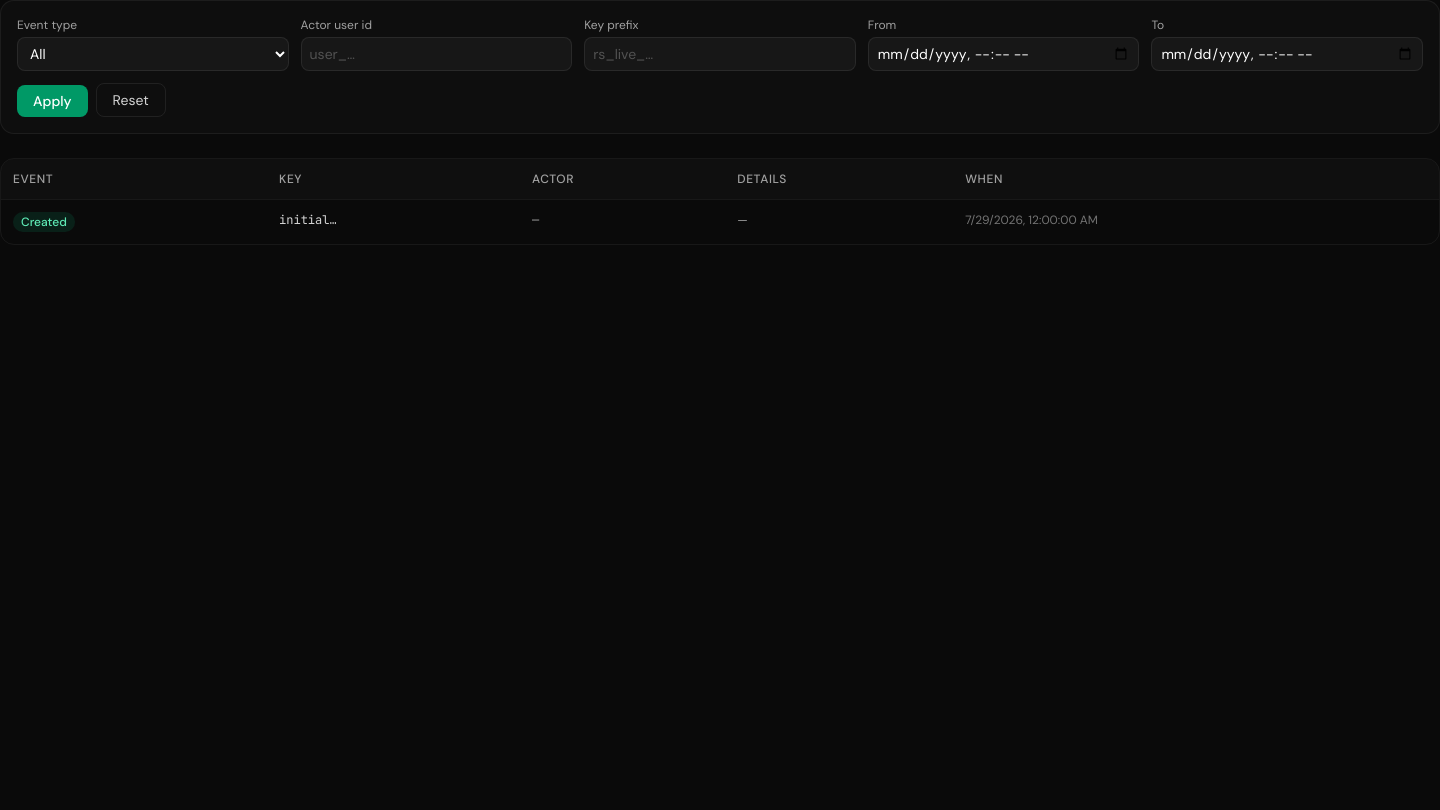
Scenario: AuditFeed › ignores a filtered response that arrives after a reset response
Check: the text "initial…" is shown, box [267, 199, 520, 244]
Type "filtered" into the field labelled "Key prefix" at (720, 54), box [584, 37, 856, 71]
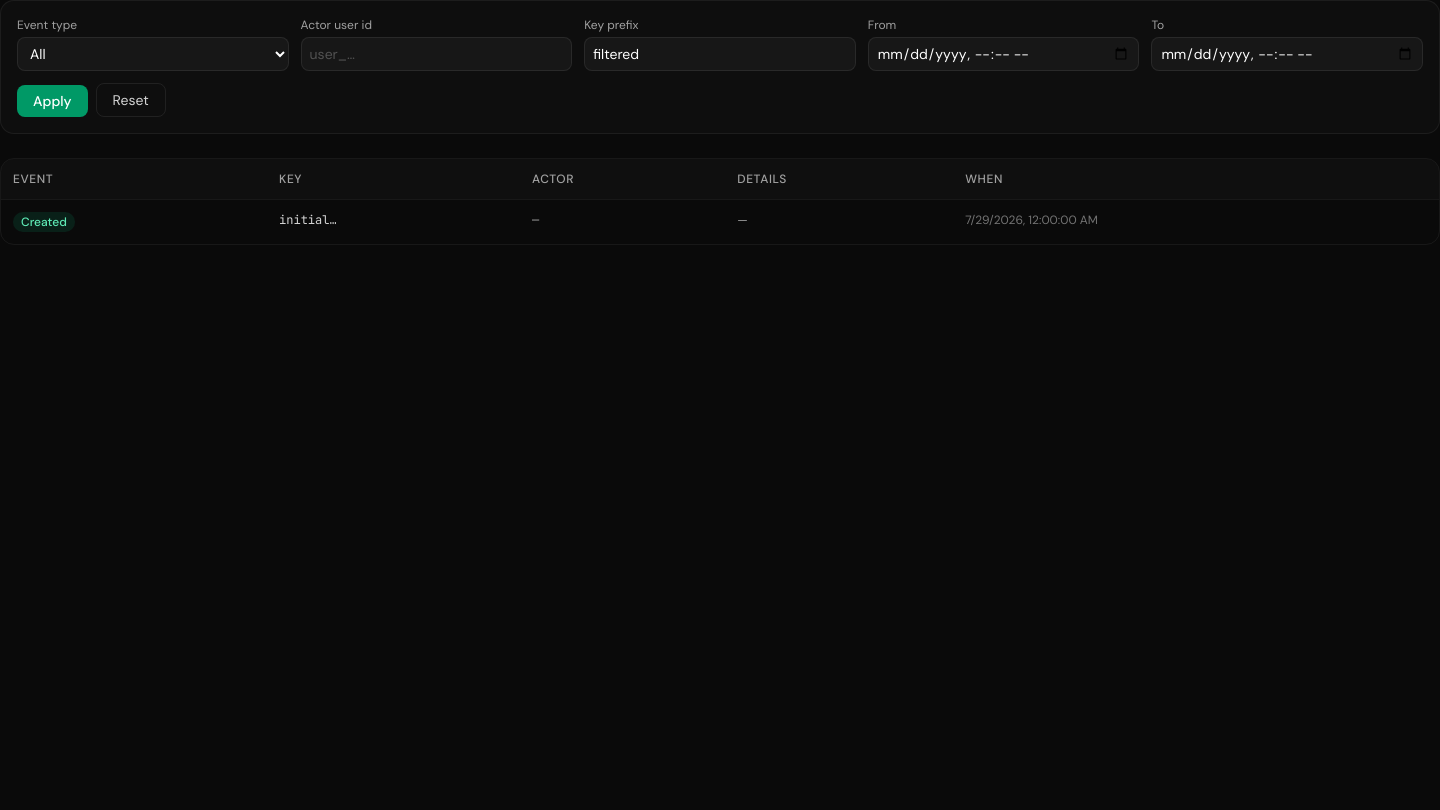
Click the button "Apply" at (52, 101), box [17, 85, 88, 117]
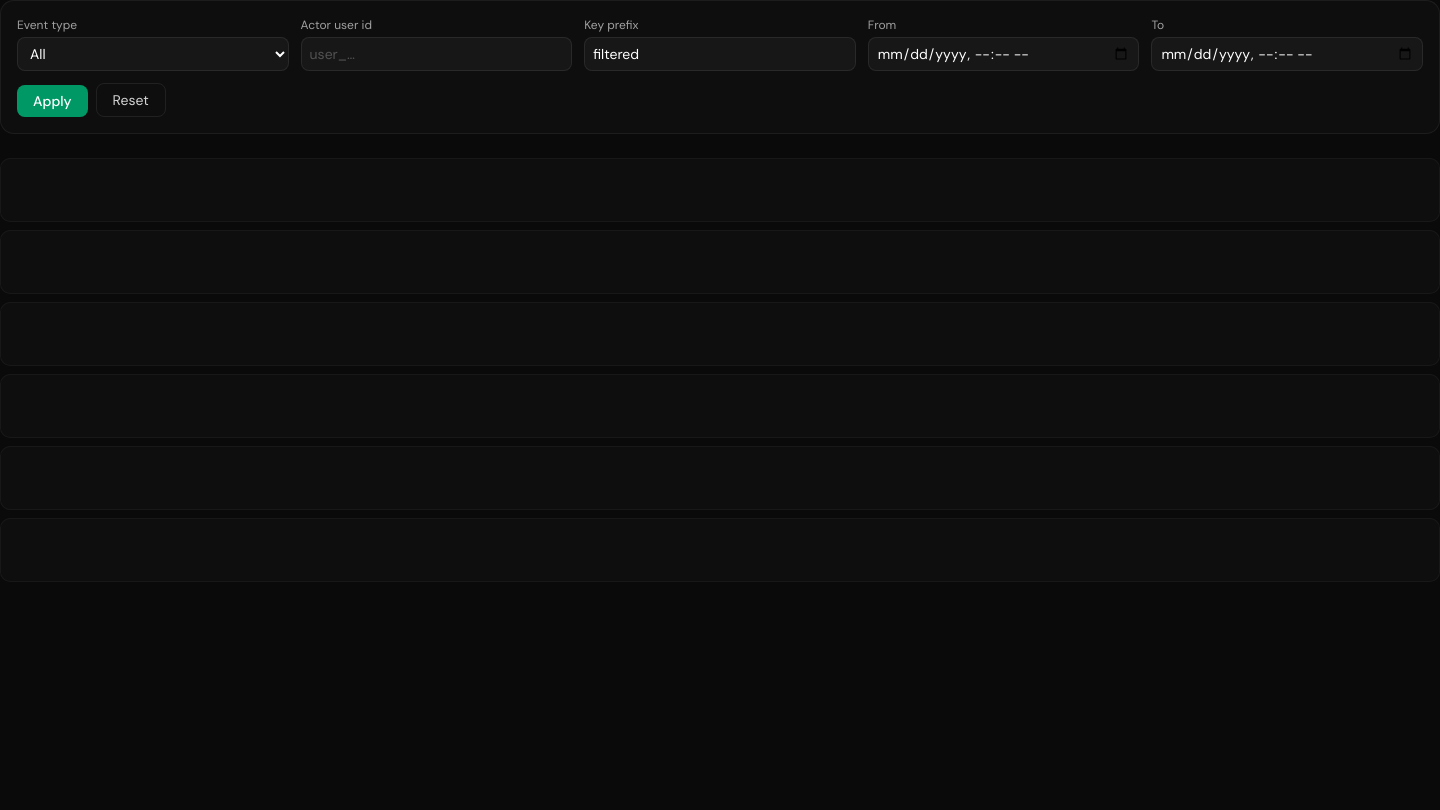
Click the button "Reset" at (131, 100), box [96, 83, 166, 117]
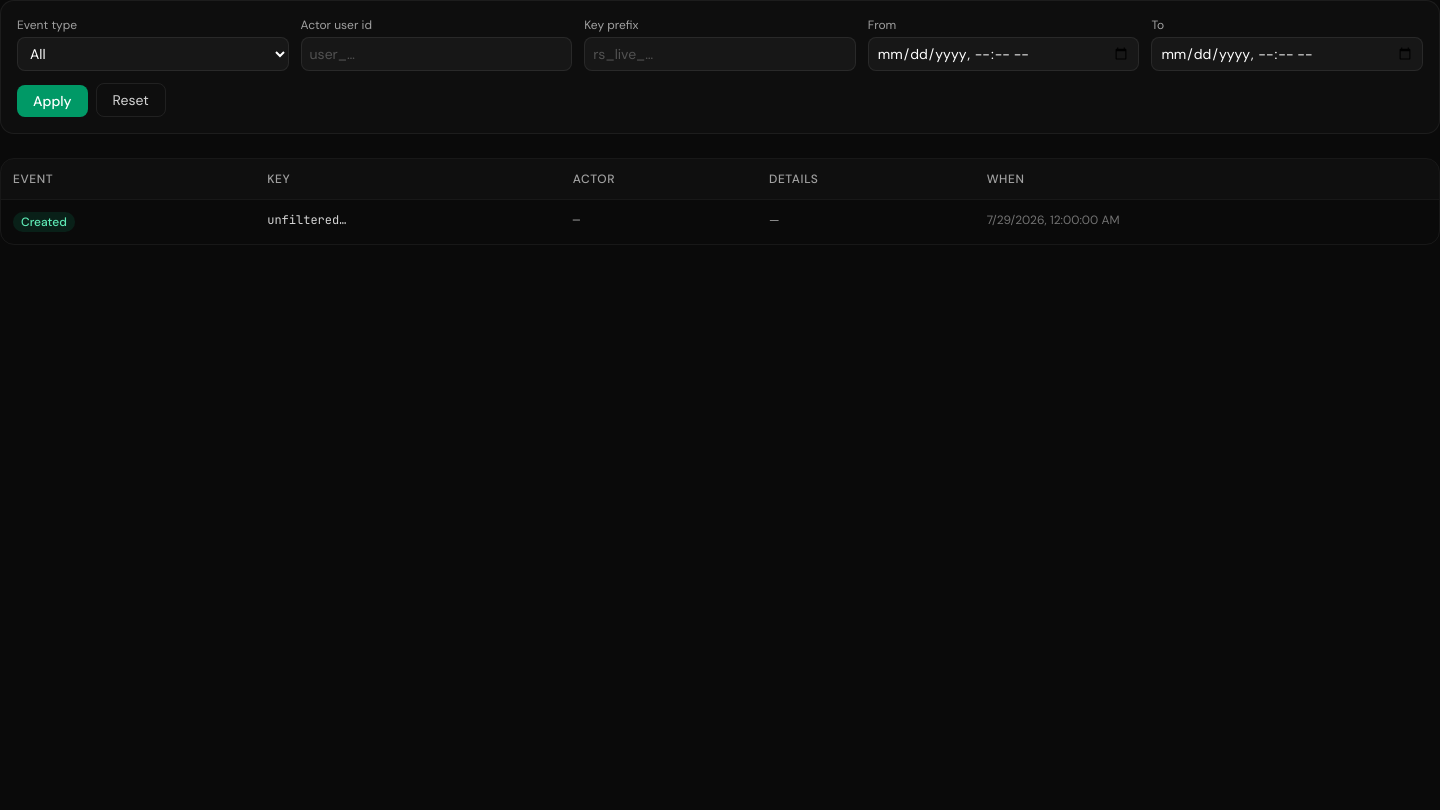
Check: the text "unfiltered…" is shown, box [255, 199, 561, 244]
